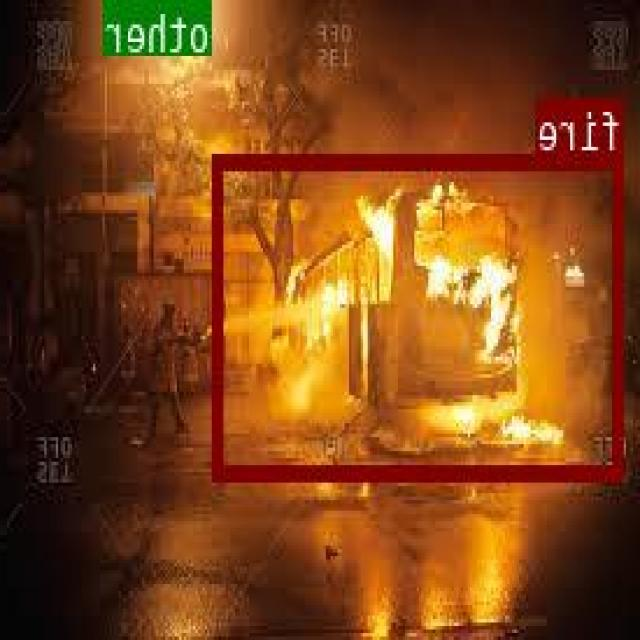fire: (215, 150, 625, 477)
other: (161, 0, 215, 45)
